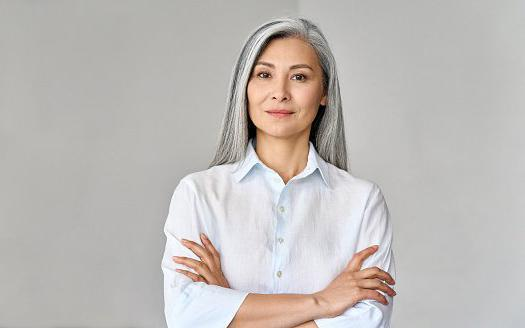Sober: (250, 45, 319, 130)
